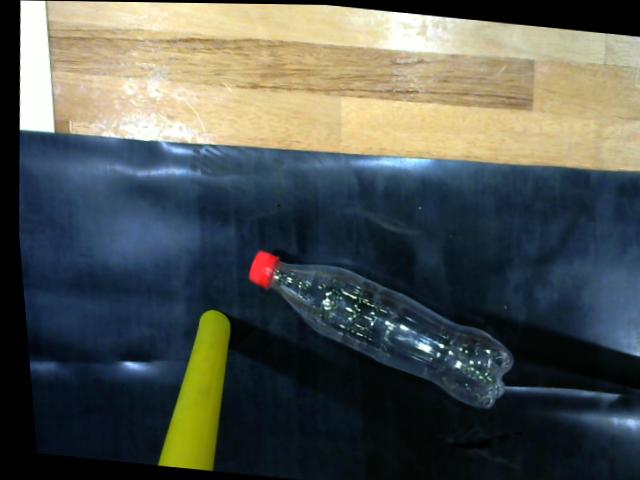bottle: (231, 247, 516, 414)
